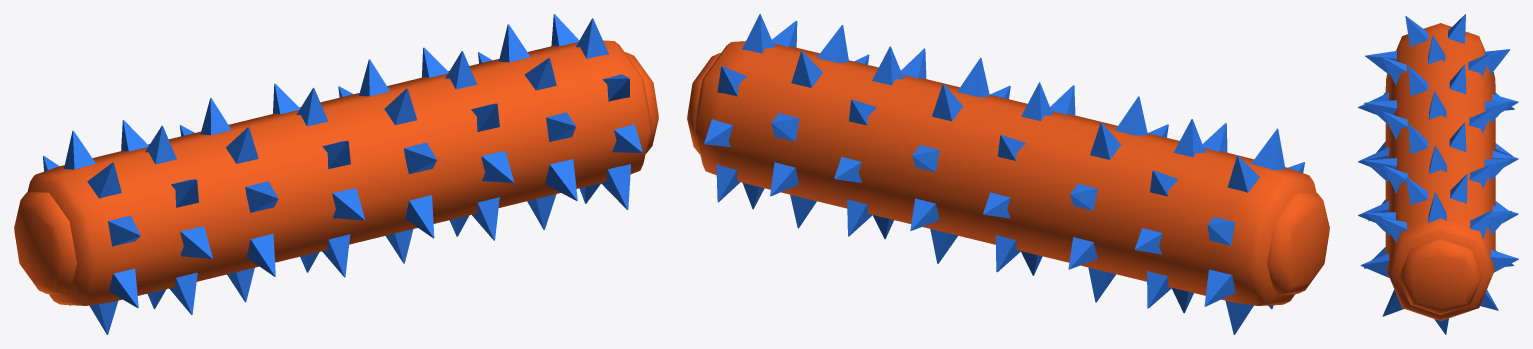
Rendered from obstacle3.fbx.
The picture shows the model from 3 angles, left to right: view 1: azimuth 30°, elevation 25°; view 2: azimuth 150°, elevation 25°; view 3: azimuth 270°, elevation 25°; orthographic projection. The views are drawn at different scales.
Parts seen in each view (by area): view 1: obstacle3; view 2: obstacle3; view 3: obstacle3.
Boxes of the visible parts, x1=… form: obstacle3: x1=14, y1=14, x2=658, y2=334; obstacle3: x1=687, y1=14, x2=1329, y2=334; obstacle3: x1=1358, y1=14, x2=1518, y2=334.
Bounding box in the file's own units: 8.79 × 2.62 × 2.68.
